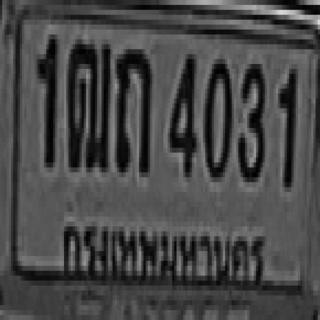A18: (66, 34, 108, 168)
A22: (115, 44, 150, 172)
N00: (203, 54, 230, 177)
N01: (35, 32, 55, 165), (278, 64, 296, 182)
N03: (236, 59, 263, 177)
N04: (168, 49, 194, 172)
P04: (54, 205, 268, 288)
